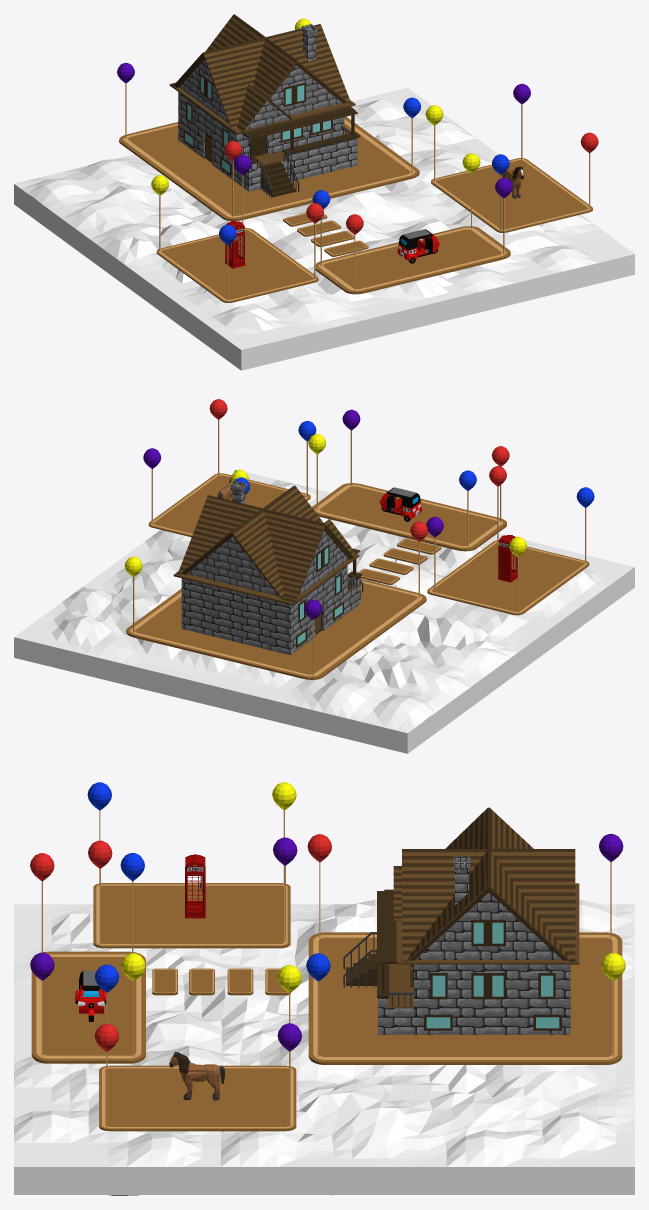
3 views of the same model, one above another, from view 1: azimuth 30°, elevation 25°; view 2: azimuth 150°, elevation 25°; view 3: azimuth 270°, elevation 25° (orthographic). The views are drawn at different scales.
Visible parts, largest first — view 1: Cube.013, Cube.586, VEHICLES_TUC_TUC, OBJRANDOM_PHONEBOOTH; view 2: Cube.013, Cube.586, VEHICLES_TUC_TUC, OBJRANDOM_PHONEBOOTH; view 3: Cube.013, Cube.586, ANIMAL_CABALLO, OBJRANDOM_PHONEBOOTH, VEHICLES_TUC_TUC.
Part boxes in pixels (<box>): Cube.013: <box>14,18,634,370</box>; Cube.586: <box>169,14,360,198</box>; VEHICLES_TUC_TUC: <box>397,229,439,263</box>; OBJRANDOM_PHONEBOOTH: <box>225,221,245,268</box>; Cube.013: <box>14,399,634,753</box>; Cube.586: <box>173,481,363,654</box>; VEHICLES_TUC_TUC: <box>379,487,422,521</box>; OBJRANDOM_PHONEBOOTH: <box>498,535,517,582</box>; Cube.013: <box>14,782,634,1194</box>; Cube.586: <box>343,807,579,1034</box>; ANIMAL_CABALLO: <box>169,1051,224,1100</box>; OBJRANDOM_PHONEBOOTH: <box>185,854,205,918</box>; VEHICLES_TUC_TUC: <box>75,970,106,1021</box>.
Bounding box in the file's own units: 4000 × 1670 × 4000.
Materials: 40 (2 with a texture image).
